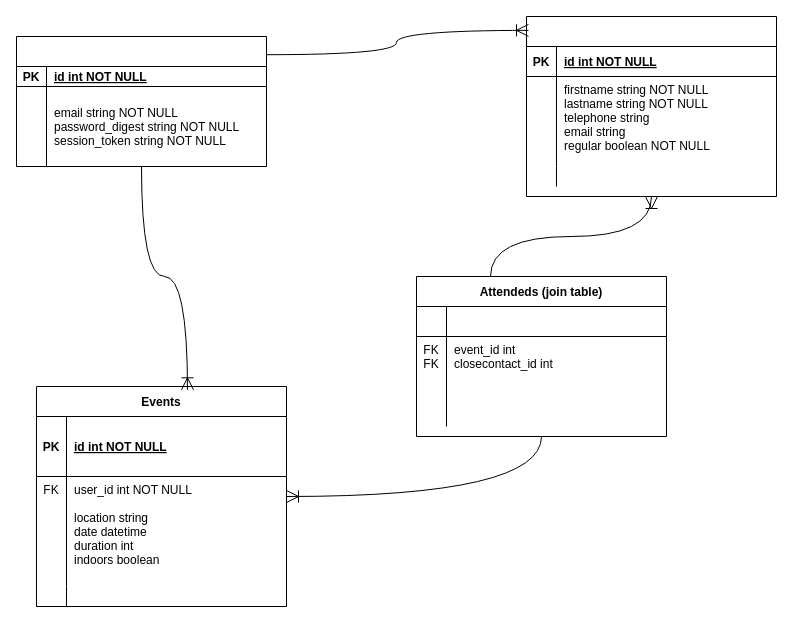
The diagram is 793 pixels wide and 623 high, and some of its shapes have lost their labels. Each missing label, with the box of its shape:
Closecontacts: (526, 16, 776, 196)
Users: (16, 36, 266, 166)
